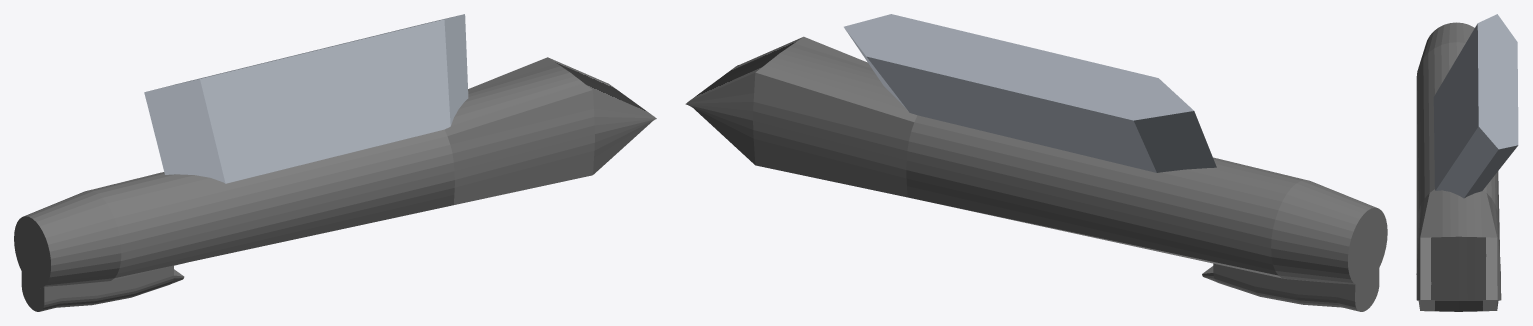
Rendered from f16caaq33.glb.
3 views of the same model, side by side, from view 1: azimuth 30°, elevation 25°; view 2: azimuth 150°, elevation 25°; view 3: azimuth 270°, elevation 25° (orthographic). The views are drawn at different scales.
Parts seen in each view (by area): view 1: 円柱.036, 立方体.039; view 2: 円柱.036, 立方体.039; view 3: 円柱.036, 立方体.039.
Boxes of the visible parts, box(x1,y1,x2,y2) form: 円柱.036: box(14, 57, 656, 311); 立方体.039: box(144, 14, 468, 183); 円柱.036: box(685, 36, 1387, 311); 立方体.039: box(844, 14, 1216, 172); 円柱.036: box(1416, 22, 1501, 311); 立方体.039: box(1433, 14, 1518, 198).
Size of the model in its own units: 2.95 by 0.8751 by 0.5041.
2 materials, 1 textured.
